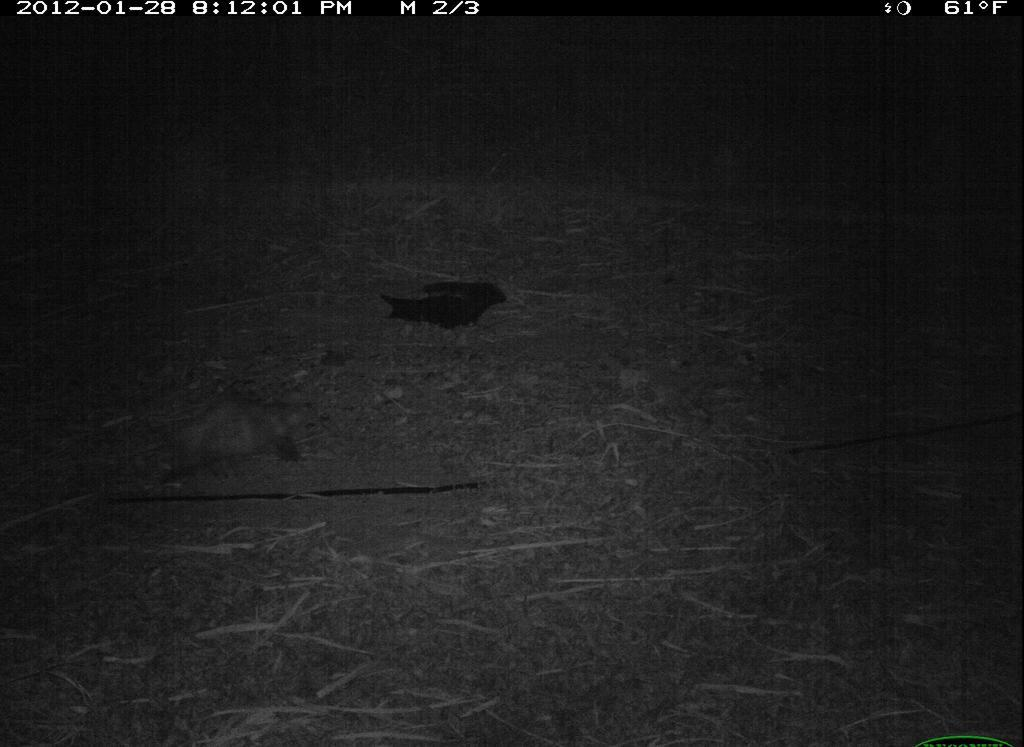opossum: (114, 374, 346, 500)
